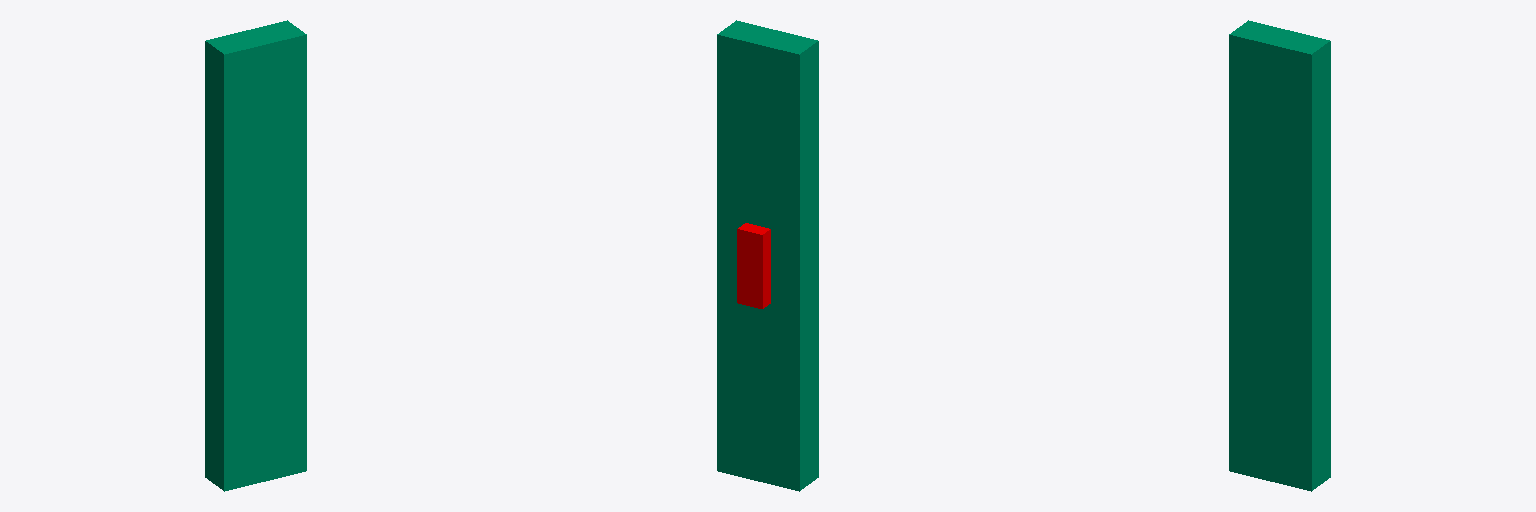
The robot description file, URDF, robot "knife":
<?xml version='1.0' encoding='utf-8'?>
<robot name="knife">
  <link name="base" /><joint name="joint_0" type="fixed"><origin xyz="0 0 0" rpy="0 0 0" /><parent link="base" /><child link="link_0" /></joint><link name="link_1">
    <visual name="link_1">
      <origin xyz="0 0.008036 0" rpy="0 0 0" />
      <geometry>
        <box size="0.008462127301674558 0.004909385249677986 0.023829127707371795" /></geometry>
    <material name="red"><color rgba="1 0 0 1" /></material></visual>
    <collision>
      <origin xyz="0 0.008036 0" rpy="0 0 0" />
      <geometry>
        <box size="0.008462127301674558 0.004909385249677986 0.023829127707371795" /></geometry>
    </collision>
    </link>
  <joint name="joint_1" type="prismatic">
    <origin xyz="0 0 0" />
    <axis xyz="0 0 1" />
    <child link="link_1" />
    <parent link="link_0" />
    <limit lower="-0.039935" upper="0.010065" effort="100.0" velocity="1.0" />
  </joint>
  <link name="link_0">
    <visual name="link_0">
      <origin xyz="0 0 0" />
      <geometry>
        <box size="0.027600702689984137 0.011162629937268041 0.1399122651351985" /></geometry>
    </visual>
    <collision>
      <origin xyz="0 0 0" />
      <geometry>
        <box size="0.027600702689984137 0.011162629937268041 0.1399122651351985" /></geometry>
    </collision>
    </link>
</robot>

--- What the picture shows (computed from the rendered views, not written in the file) ---
The picture shows the robot from 3 angles, left to right: view 1: azimuth 30°, elevation 25°; view 2: azimuth 150°, elevation 25°; view 3: azimuth 330°, elevation 25°; orthographic projection.
Robot: knife — 3 links, 2 joints (1 prismatic, 1 fixed); root link base; default pose: all joints at 0.
Links seen in each view (by area): view 1: link_0; view 2: link_0, link_1; view 3: link_0.
Link boxes in pixels (box(x1,y1,x2,y2)): link_0: box(205, 20, 306, 491); link_0: box(717, 20, 818, 491); link_1: box(737, 223, 770, 308); link_0: box(1229, 20, 1330, 491).
Size in the robot's own frame: 0.0276 by 0.0161 by 0.1399 metres.
Geometry: primitives only (box / cylinder / sphere), no mesh files.
